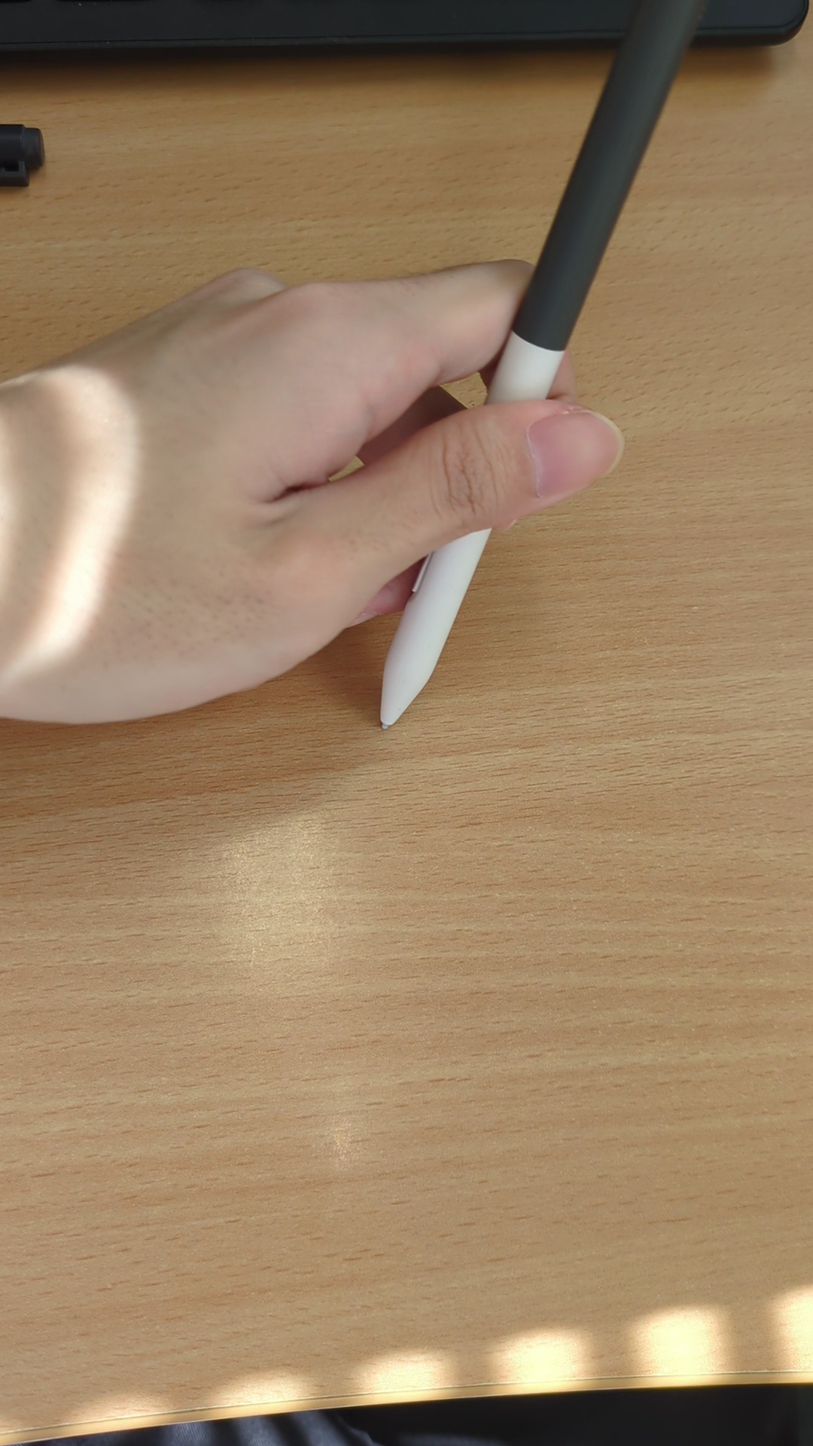pen: (369, 4, 711, 733)
tip: (367, 647, 441, 740)
